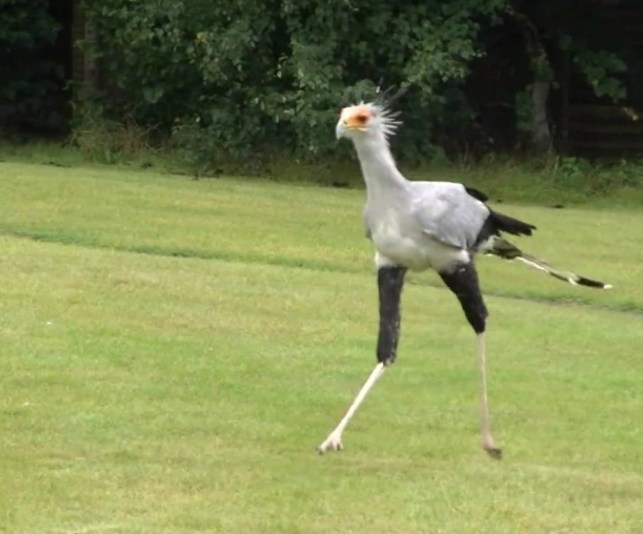bird: (311, 84, 620, 468)
